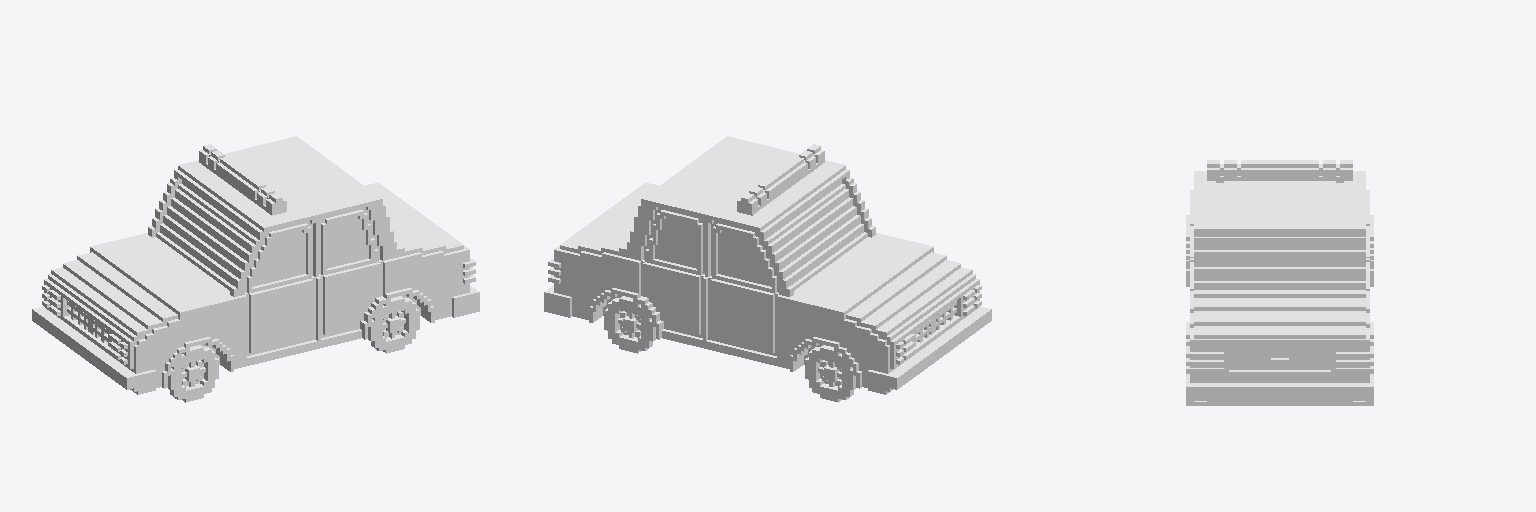
Rendered from Short_car_police.obj.
3 renders of one model, left to right at view 1: azimuth 30°, elevation 25°; view 2: azimuth 150°, elevation 25°; view 3: azimuth 270°, elevation 25°, orthographic.
Visible parts, largest first — view 1: object 1; view 2: object 1; view 3: object 1.
Boxes of the visible parts, x1,y1,x2,y2 form: object 1: [32, 136, 479, 402]; object 1: [544, 136, 991, 402]; object 1: [1186, 160, 1373, 405].
Bounding box in the file's own units: 9.5 × 4.5 × 4.4.